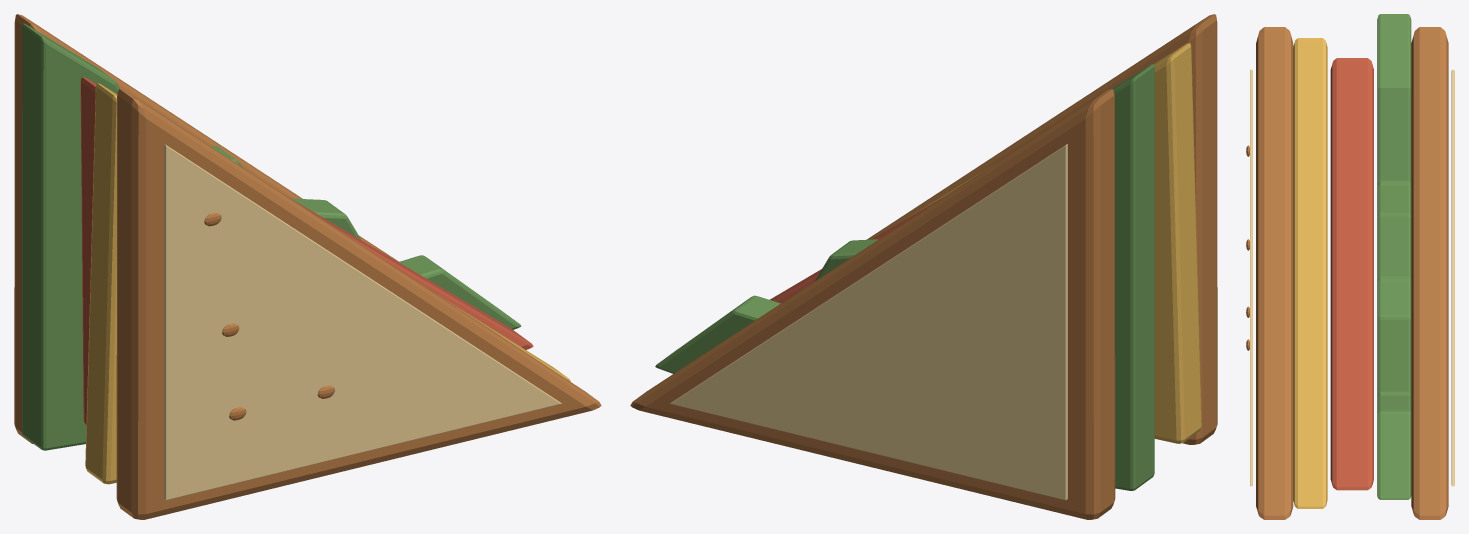
Rendered from sandwich.glb.
3 views of the same model, side by side, from view 1: azimuth 30°, elevation 25°; view 2: azimuth 150°, elevation 25°; view 3: azimuth 270°, elevation 25° (orthographic). The views are drawn at different scales.
Parts seen in each view (by area): view 1: MESH_sandwich; view 2: MESH_sandwich; view 3: MESH_sandwich.
Boxes of the visible parts, bbox=[...] form: MESH_sandwich: bbox=[14, 14, 601, 519]; MESH_sandwich: bbox=[630, 14, 1217, 519]; MESH_sandwich: bbox=[1246, 14, 1454, 519].
Size of the model in its own units: 0.1366 by 0.1166 by 0.0672.
